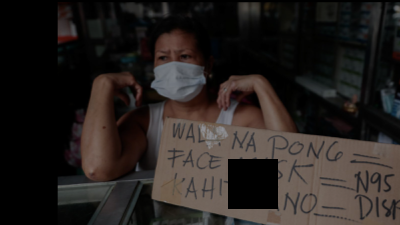with_mask: (150, 46, 207, 102)
